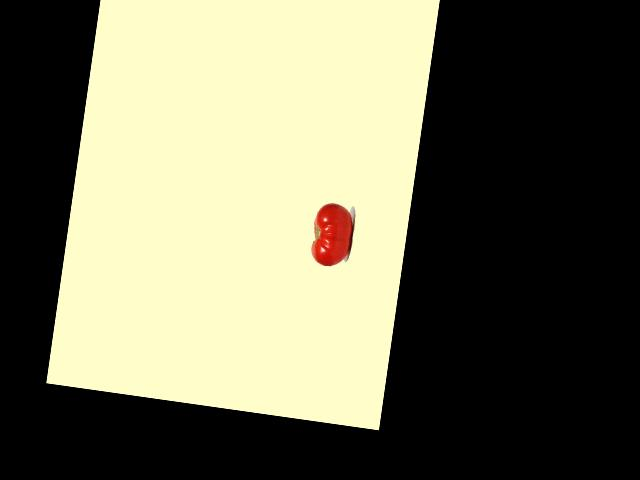tomato: (308, 201, 355, 269)
